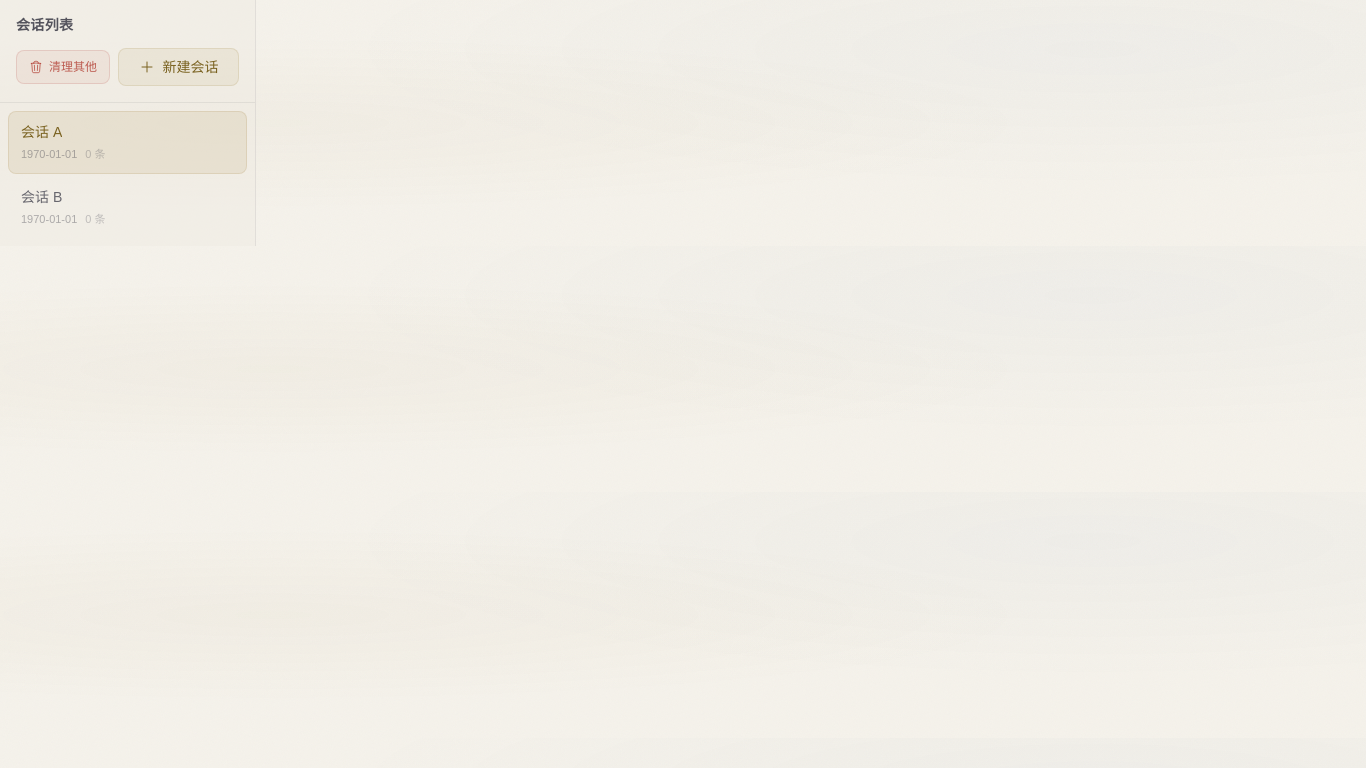
Test case: ThreadList 清理成功 toast - 显示/消失/store 同步 › B1: 清理成功后,屏幕出现「已清理 1 个会话」toast
This screenshot has width=1366, height=768.
Click the button with aria-label "清理其他会话". click: coordinates (63, 67)
box: [16,50,110,84]
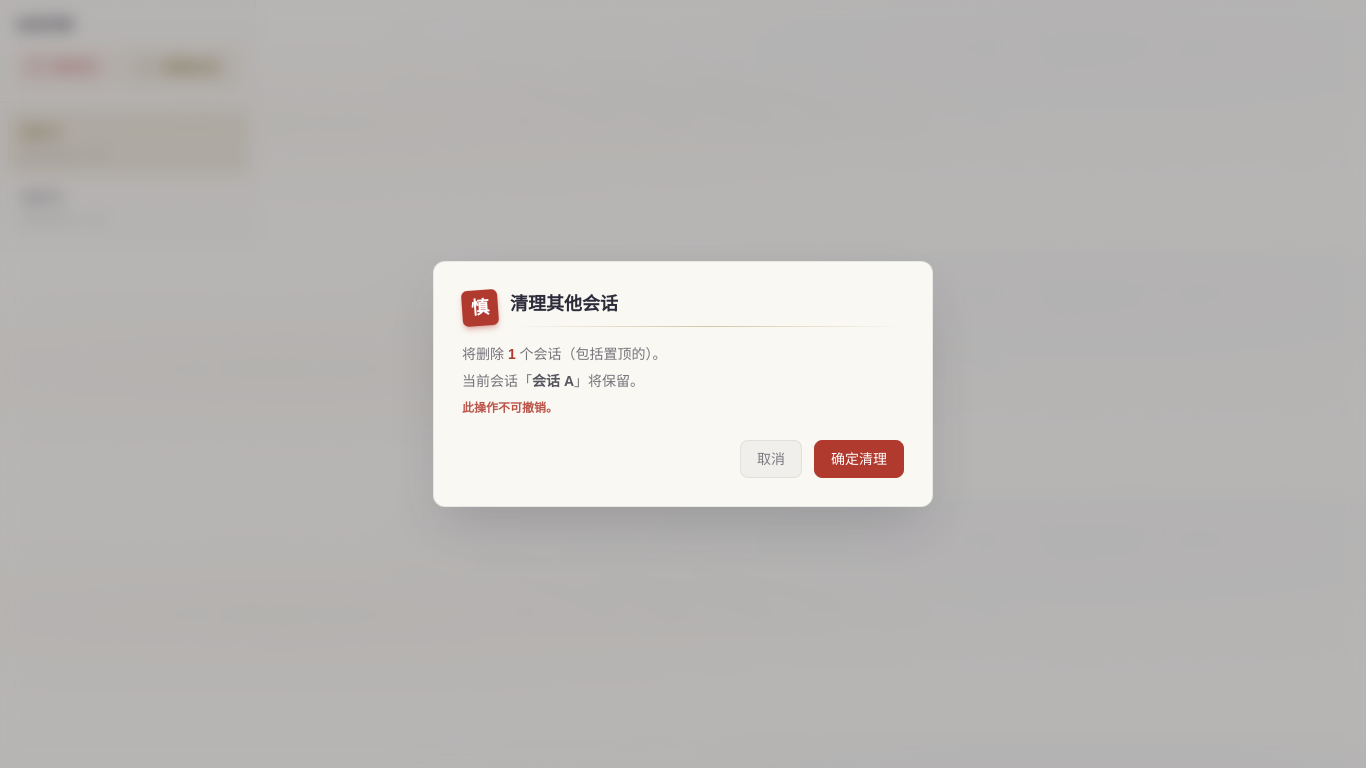
Click the button "确定清理". click: coordinates (859, 459)
box: [814,440,904,478]
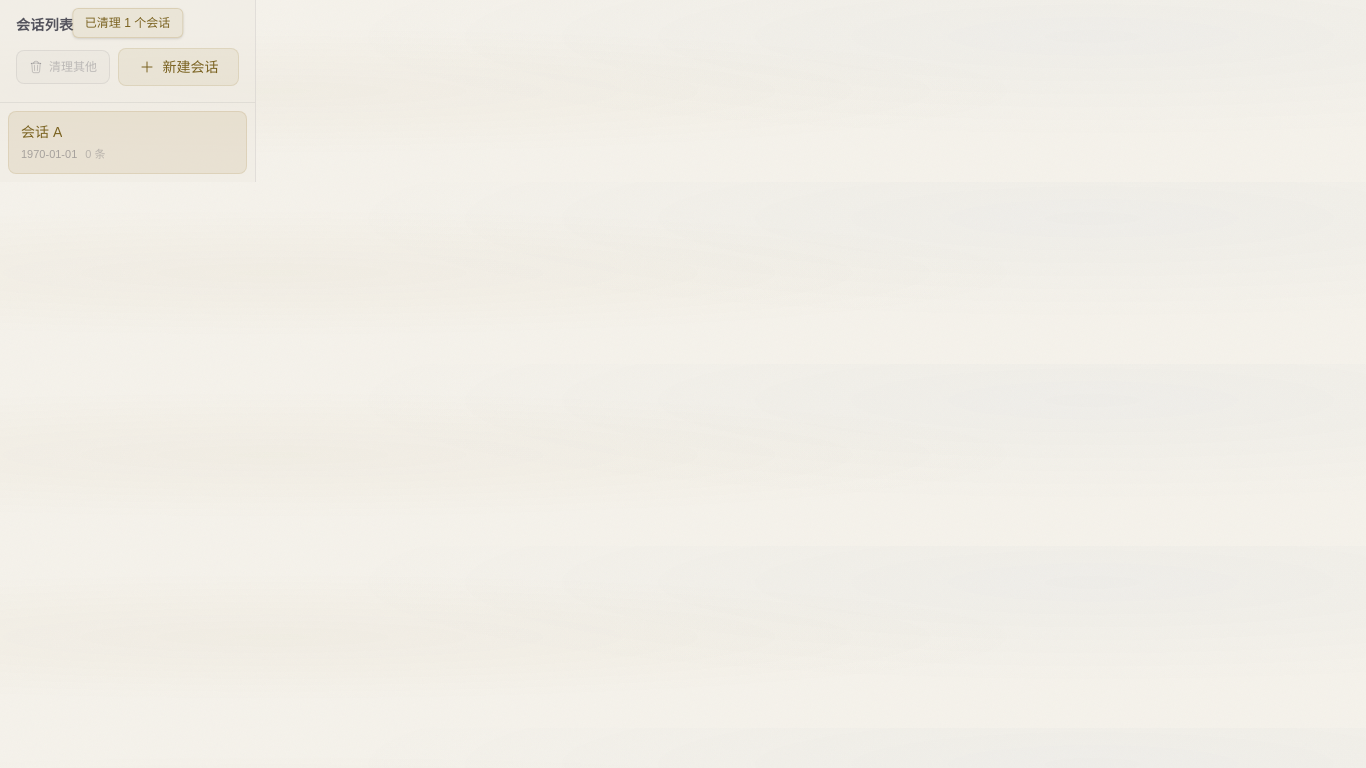
Expected: the message reads "已清理 1 个会话", [85,16,170,30]
